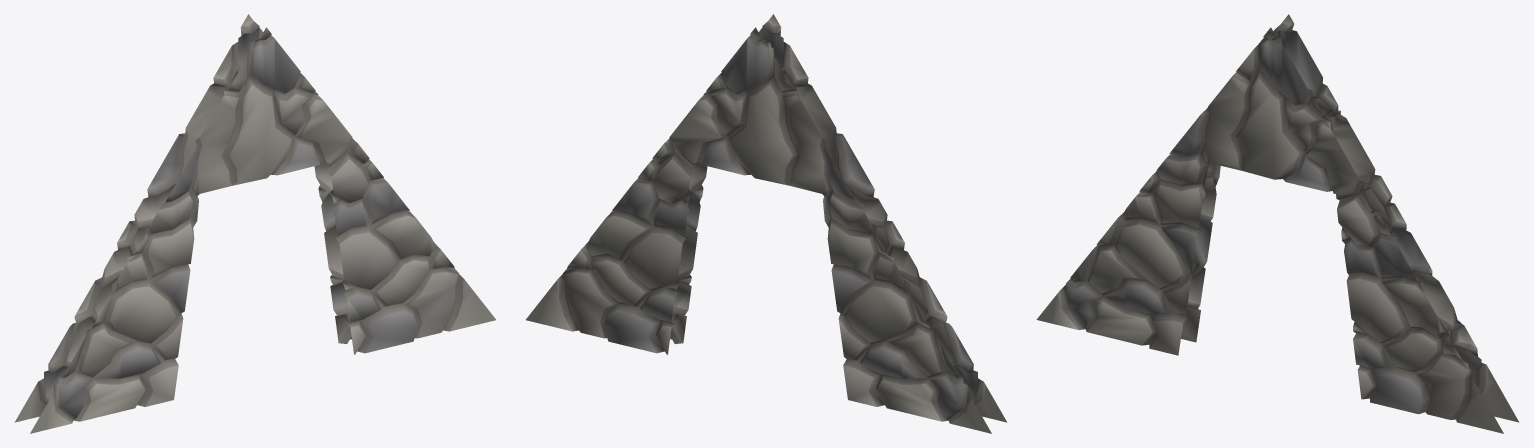
File: rpgpp_ag_roof_end_01_6x5_wall_door_03b.fbx
3 renders of one model, left to right at view 1: azimuth 30°, elevation 25°; view 2: azimuth 150°, elevation 25°; view 3: azimuth 330°, elevation 25°, orthographic.
Parts seen in each view (by area): view 1: rpgpp_ag_roof_end_01_6x5_wall_door_03b; view 2: rpgpp_ag_roof_end_01_6x5_wall_door_03b; view 3: rpgpp_ag_roof_end_01_6x5_wall_door_03b.
Part boxes in pixels (x1=…): rpgpp_ag_roof_end_01_6x5_wall_door_03b: x1=14, y1=14, x2=495, y2=433; rpgpp_ag_roof_end_01_6x5_wall_door_03b: x1=526, y1=14, x2=1007, y2=433; rpgpp_ag_roof_end_01_6x5_wall_door_03b: x1=1036, y1=14, x2=1519, y2=433.
Size of the model in its own units: 6.36 by 4.57 by 0.4229.
